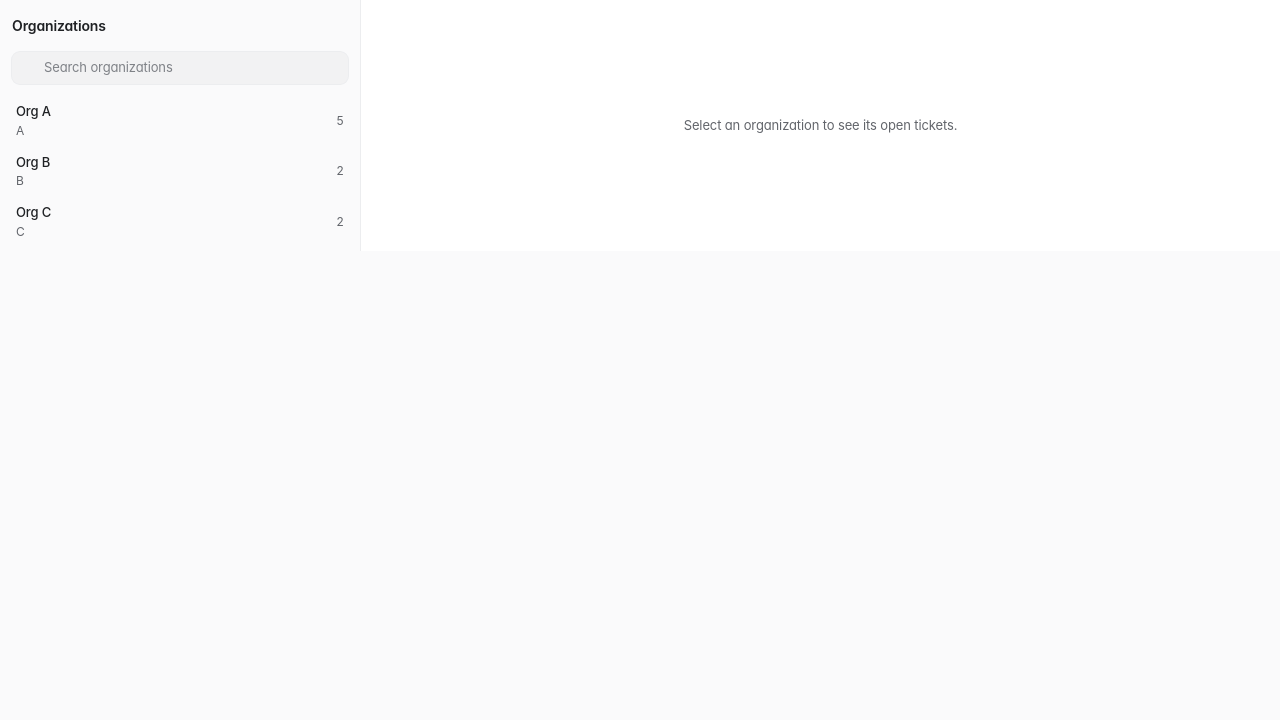
Test case: OrgsScreen (section 12) › shows an org: header, links, View menu and the grouped ticket table (ORG-6…11)
Later steps or results of the test are not shown.
Click the text "Org A".
click(33, 111)  # box [16,103,51,119]
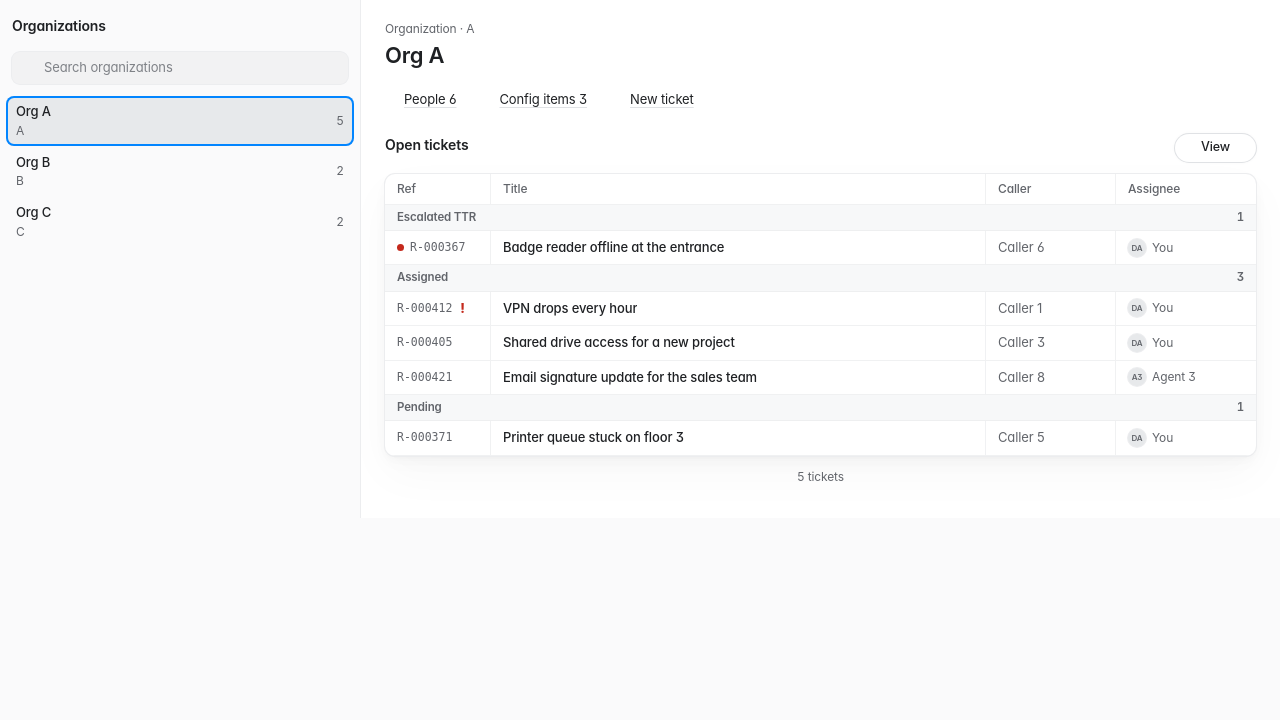
Expected: the heading "Org A" is shown, [385,42,444,68]
Expected: the button "View" is shown, [1174,134,1256,162]
Expected: the column headings read "Ref", "Title", "Caller", "Assignee", in this order, [385,174,491,204]; [491,174,986,204]; [986,174,1116,204]; [1128,180,1180,196]
